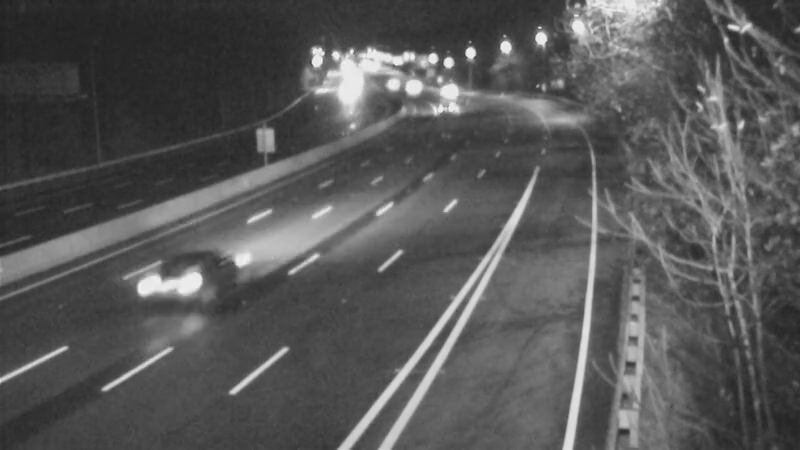vehicle: (140, 250, 220, 330), (364, 60, 414, 110), (385, 61, 435, 111), (419, 64, 469, 114), (421, 79, 471, 129), (321, 72, 371, 122)
